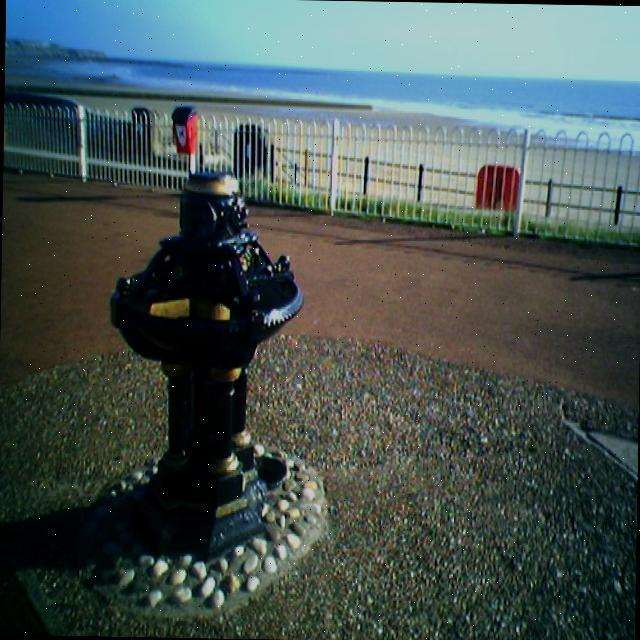fire_hydrant: (98, 165, 310, 556)
